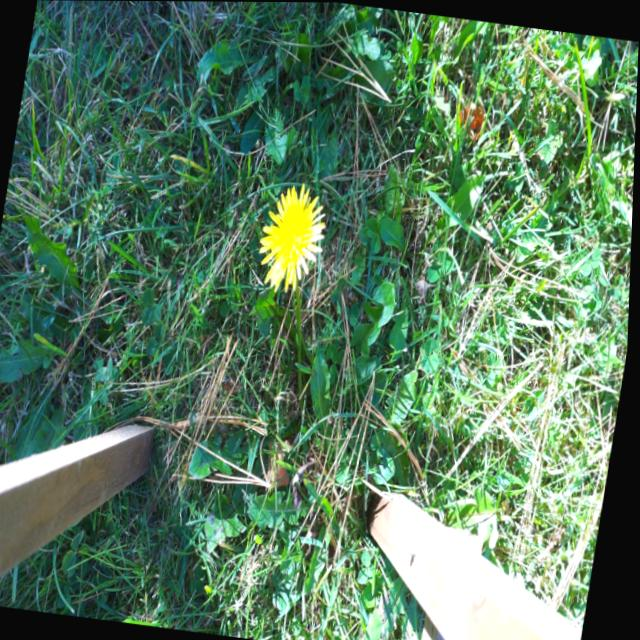base: (288, 386, 322, 432)
